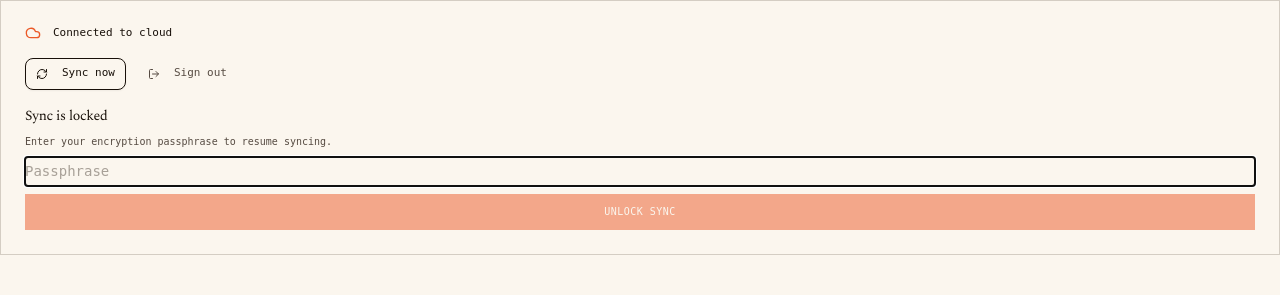
Scenario: E2E unlock form › shows 'Failed to unlock' when api.get throws a generic error
Type "mypassphrase" into the password field with placeholder "Passphrase". click: (640, 171)
box: [25, 156, 1255, 186]
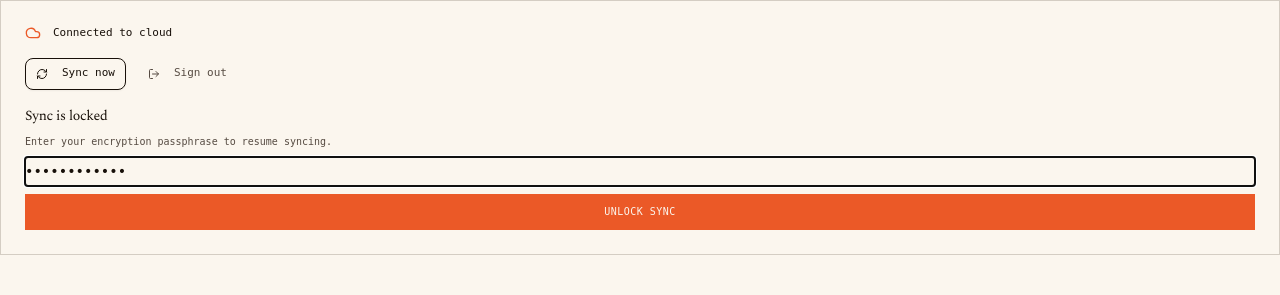
Click the button "Unlock sync". click: (640, 212)
box: [25, 194, 1255, 230]
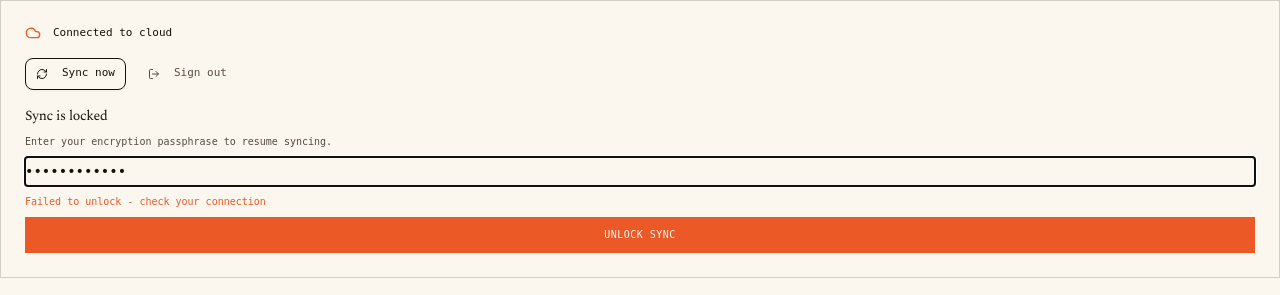
Expected: the text "Failed to unlock - check your connection" is shown, [25, 196, 266, 206]
